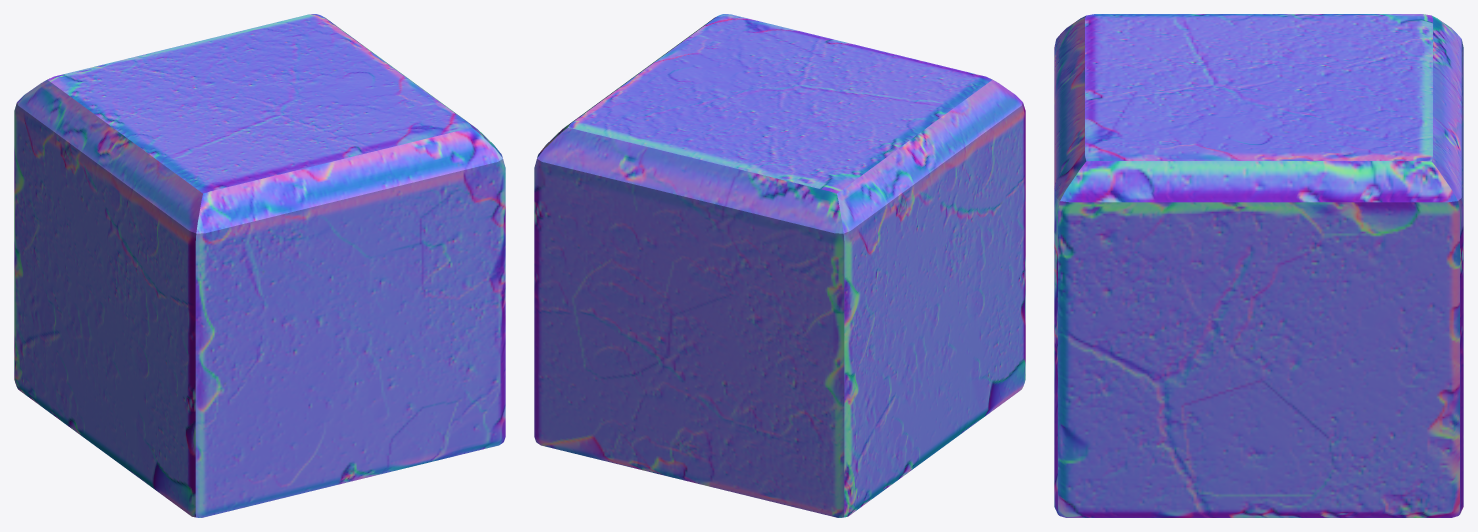
File: Dungeon_PillarStart.fbx
3 views of the same model, side by side, from view 1: azimuth 30°, elevation 25°; view 2: azimuth 150°, elevation 25°; view 3: azimuth 270°, elevation 25° (orthographic). The views are drawn at different scales.
Visible parts, largest first — view 1: MeshHP; view 2: MeshHP; view 3: MeshHP.
Part boxes in pixels (x1,y1,x2,y2): MeshHP: (14,14,505,517); MeshHP: (534,14,1025,517); MeshHP: (1054,14,1463,517).
Size of the model in its own units: 1.37 by 1.32 by 1.39.
1 material, 1 textured.
